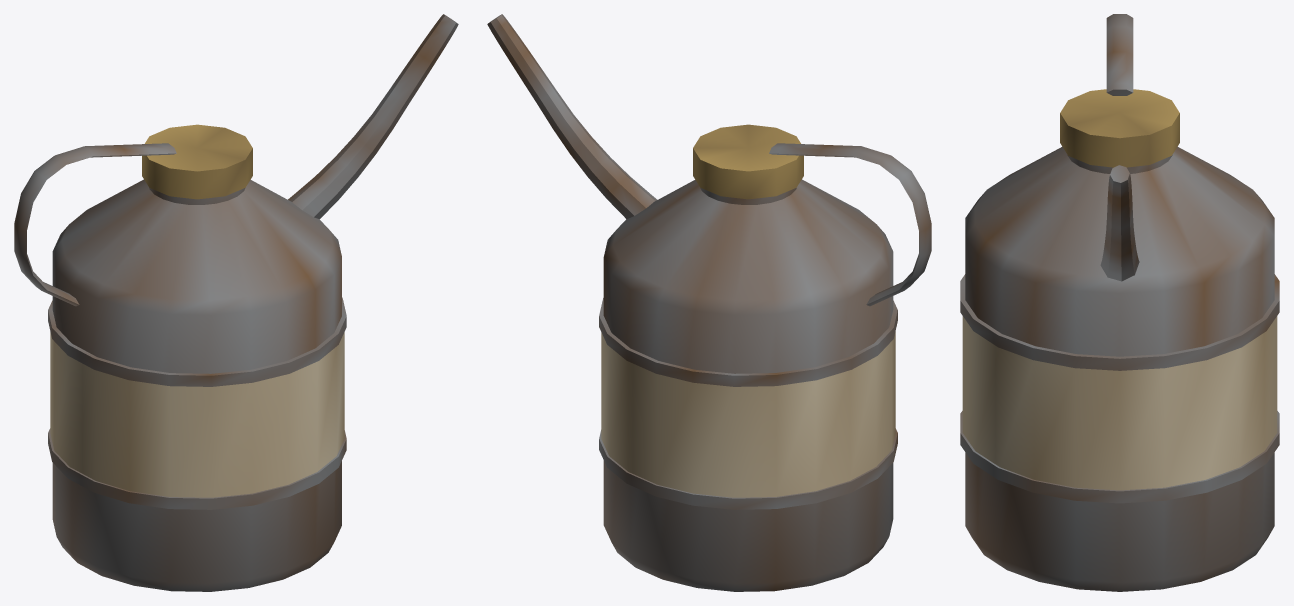
Rendered from lamp-oil.glb.
3 views of the same model, side by side, from view 1: azimuth 30°, elevation 25°; view 2: azimuth 150°, elevation 25°; view 3: azimuth 270°, elevation 25° (orthographic). The views are drawn at different scales.
Parts seen in each view (by area): view 1: lamp-oil; view 2: lamp-oil; view 3: lamp-oil.
Part boxes in pixels (x1,y1,x2,y2): lamp-oil: (14, 14, 458, 591); lamp-oil: (487, 14, 931, 591); lamp-oil: (960, 14, 1279, 591).
Size of the model in its own units: 0.1647 by 0.1639 by 0.096.
